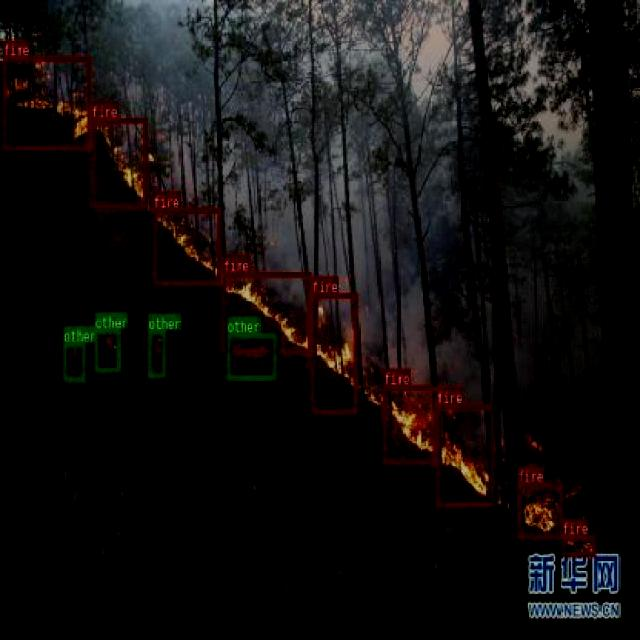fire: (2, 56, 90, 149), (222, 272, 310, 352), (436, 403, 494, 506), (311, 292, 357, 414), (152, 208, 220, 284), (90, 117, 146, 208), (382, 385, 436, 463), (517, 482, 563, 538), (562, 534, 596, 556)
